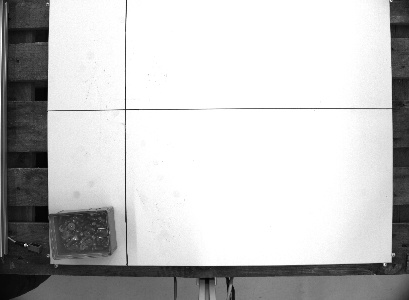klts: (45, 203, 120, 262)
